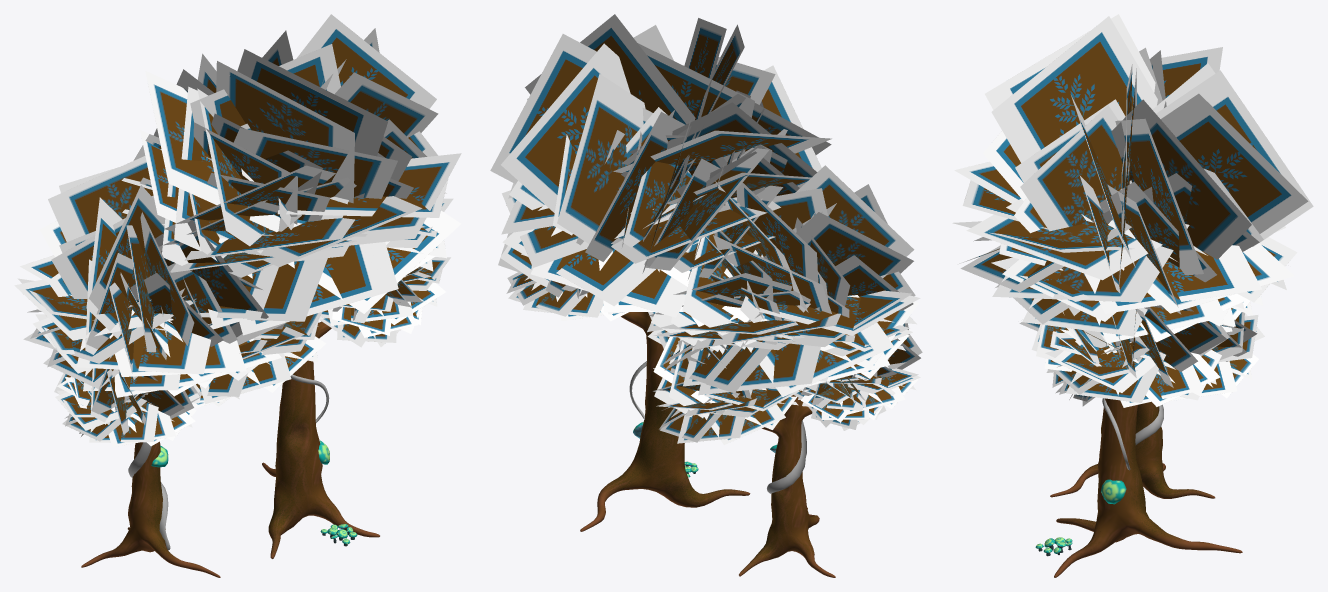
The model's file is Cubes_Trees_Scene.fbx.
The picture shows the model from 3 angles, left to right: view 1: azimuth 30°, elevation 25°; view 2: azimuth 150°, elevation 25°; view 3: azimuth 270°, elevation 25°; orthographic projection. The views are drawn at different scales.
Parts seen in each view (by area): view 1: pPlane18 (×5), tree_1_low (×2), pPlane17 (×2), pPlane19 (×3), pPlane22 (×3), pPlane16 (×2), pPlane6 (×2), pPlane7 (×3), pPlane9 (×4), pPlane23 (×3), pPlane2 (×3), pPlane29 (×3) (+15 smaller); view 2: tree_1_low (×2), pPlane9 (×3), pPlane19 (×2), pPlane8, pPlane18 (×4), pPlane7 (×3), pPlane16 (×3), pPlane10 (×2), pPlane15 (×3), pPlane27 (×2), pPlane1 (×2), pPlane32 (×3) (+18 smaller); view 3: pPlane18 (×3), pPlane9 (×3), tree_1_low (×2), pPlane8 (×3), pPlane21 (×3), pPlane30 (×3), pPlane29 (×3), pPlane20 (×3), pPlane28 (×3), pPlane10, pPlane17 (×2), pPlane32 (×3) (+12 smaller).
Part boxes in pixels (left/top/right/bottom): pPlane18 (×5): left=48, top=49, right=411, bottom=298; tree_1_low (×2): left=81, top=321, right=379, bottom=577; pPlane17 (×2): left=193, top=61, right=354, bottom=224; pPlane19 (×3): left=86, top=14, right=436, bottom=349; pPlane22 (×3): left=200, top=242, right=413, bottom=404; pPlane16 (×2): left=140, top=71, right=279, bottom=243; pPlane6 (×2): left=207, top=128, right=397, bottom=221; pPlane7 (×3): left=86, top=72, right=438, bottom=338; pPlane9 (×4): left=130, top=30, right=293, bottom=415; pPlane23 (×3): left=196, top=196, right=348, bottom=396; pPlane2 (×3): left=17, top=153, right=461, bottom=355; pPlane29 (×3): left=76, top=324, right=213, bottom=442; tree_1_low (×2): left=580, top=312, right=835, bottom=577; pPlane9 (×3): left=553, top=73, right=691, bottom=247; pPlane19 (×2): left=525, top=14, right=914, bottom=278; pPlane8: left=501, top=43, right=630, bottom=212; pPlane18 (×4): left=676, top=18, right=850, bottom=310; pPlane7 (×3): left=527, top=25, right=913, bottom=310; pPlane16 (×3): left=613, top=130, right=831, bottom=403; pPlane10 (×2): left=585, top=111, right=719, bottom=266; pPlane15 (×3): left=621, top=93, right=831, bottom=418; pPlane27 (×2): left=502, top=205, right=655, bottom=316; pPlane1 (×2): left=637, top=43, right=828, bottom=232; pPlane32 (×3): left=702, top=295, right=905, bottom=444; pPlane18 (×3): left=991, top=16, right=1157, bottom=360; pPlane9 (×3): left=1091, top=93, right=1308, bottom=354; tree_1_low (×2): left=1050, top=398, right=1242, bottom=577; pPlane8 (×3): left=1099, top=99, right=1251, bottom=371; pPlane21 (×3): left=966, top=198, right=1162, bottom=392; pPlane30 (×3): left=992, top=224, right=1189, bottom=402; pPlane29 (×3): left=1084, top=245, right=1261, bottom=407; pPlane20 (×3): left=1107, top=118, right=1203, bottom=387; pPlane28 (×3): left=1104, top=243, right=1294, bottom=406; pPlane10: left=1156, top=70, right=1313, bottom=242; pPlane17 (×2): left=985, top=14, right=1155, bottom=182; pPlane32 (×3): left=960, top=223, right=1149, bottom=394.
Bounding box in the file's own units: 556 × 670 × 425.
